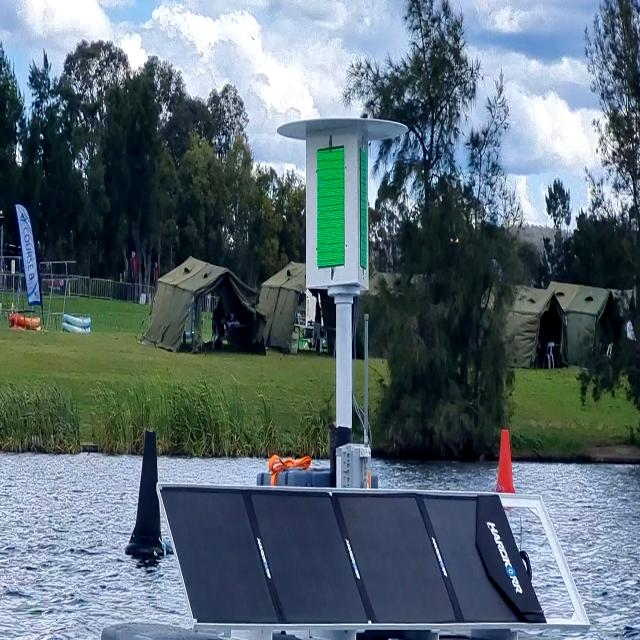led: (310, 136, 351, 273)
